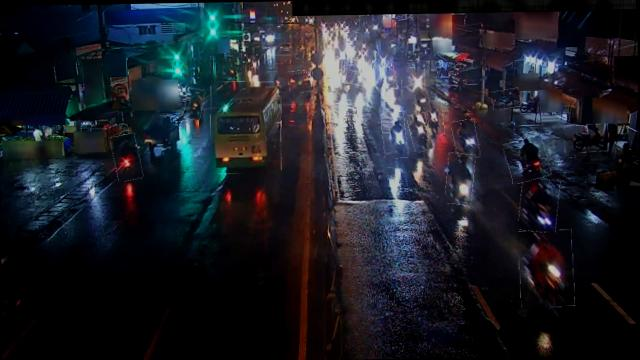Bike: (519, 229, 574, 307), (519, 176, 560, 231), (504, 136, 549, 182), (445, 153, 475, 204), (112, 134, 142, 181), (564, 123, 609, 152), (381, 112, 407, 158), (452, 120, 479, 160), (408, 112, 432, 151), (426, 97, 444, 136), (183, 87, 204, 118), (492, 88, 520, 109), (416, 88, 430, 112), (412, 68, 425, 91), (384, 66, 396, 90), (391, 76, 402, 101)
Bus: (208, 81, 282, 174)
Car: (288, 70, 313, 92)
